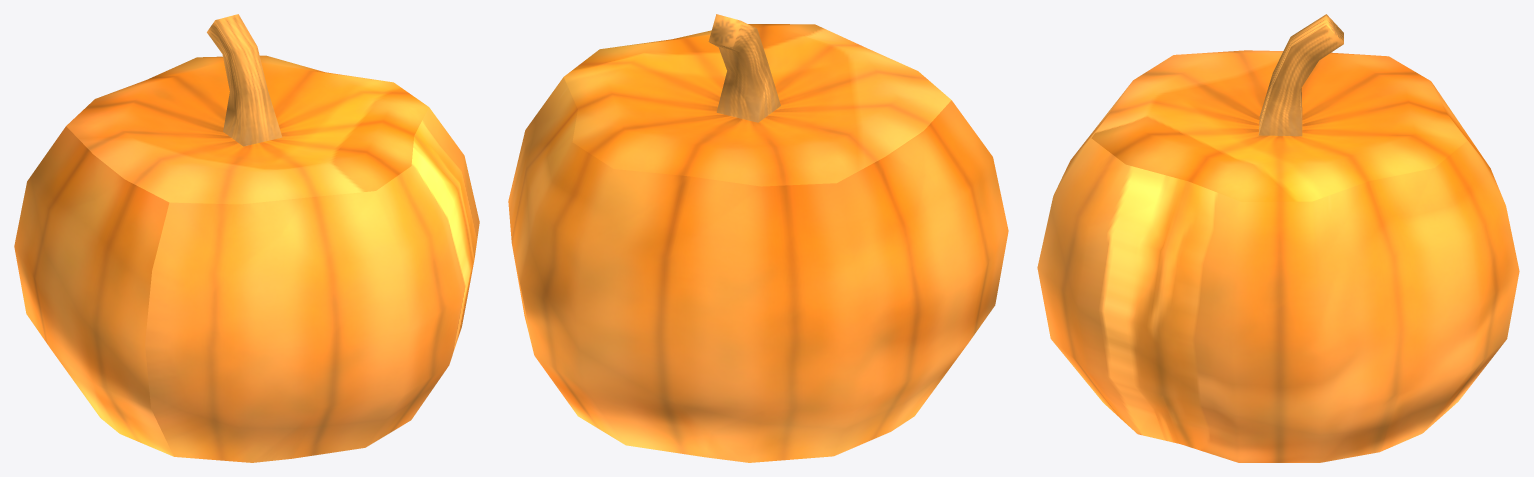
The model's file is SM_Stylized_Food_Pumpkin.fbx.
3 renders of one model, left to right at view 1: azimuth 30°, elevation 25°; view 2: azimuth 150°, elevation 25°; view 3: azimuth 270°, elevation 25°, orthographic. The views are drawn at different scales.
Visible parts, largest first — view 1: SM_Stylized_Food_Pumpkin_LOD0; view 2: SM_Stylized_Food_Pumpkin_LOD0; view 3: SM_Stylized_Food_Pumpkin_LOD0.
Part boxes in pixels (x1,y1,x2,y2): SM_Stylized_Food_Pumpkin_LOD0: [14, 14, 479, 462]; SM_Stylized_Food_Pumpkin_LOD0: [508, 14, 1008, 462]; SM_Stylized_Food_Pumpkin_LOD0: [1037, 14, 1519, 462].
Size of the model in its own units: 38.49 by 39.47 by 35.23.
